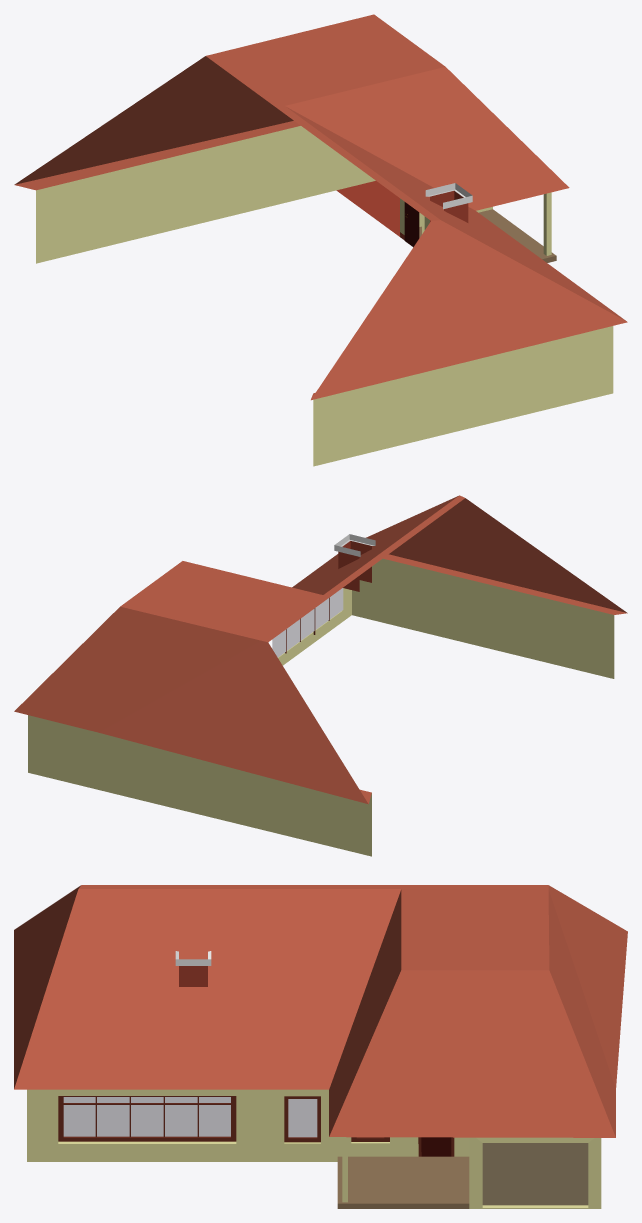
File: Runner_House.fbx
The picture shows the model from 3 angles, top to bottom: view 1: azimuth 30°, elevation 25°; view 2: azimuth 150°, elevation 25°; view 3: azimuth 270°, elevation 25°; orthographic projection. The views are drawn at different scales.
Visible parts, largest first — view 1: House; view 2: House; view 3: House.
Boxes of the visible parts, x1,y1,x2,y2 form: House: (14, 14, 627, 466); House: (14, 495, 627, 856); House: (14, 885, 627, 1208).
Bounding box in the file's own units: 2056 × 913 × 2567.
